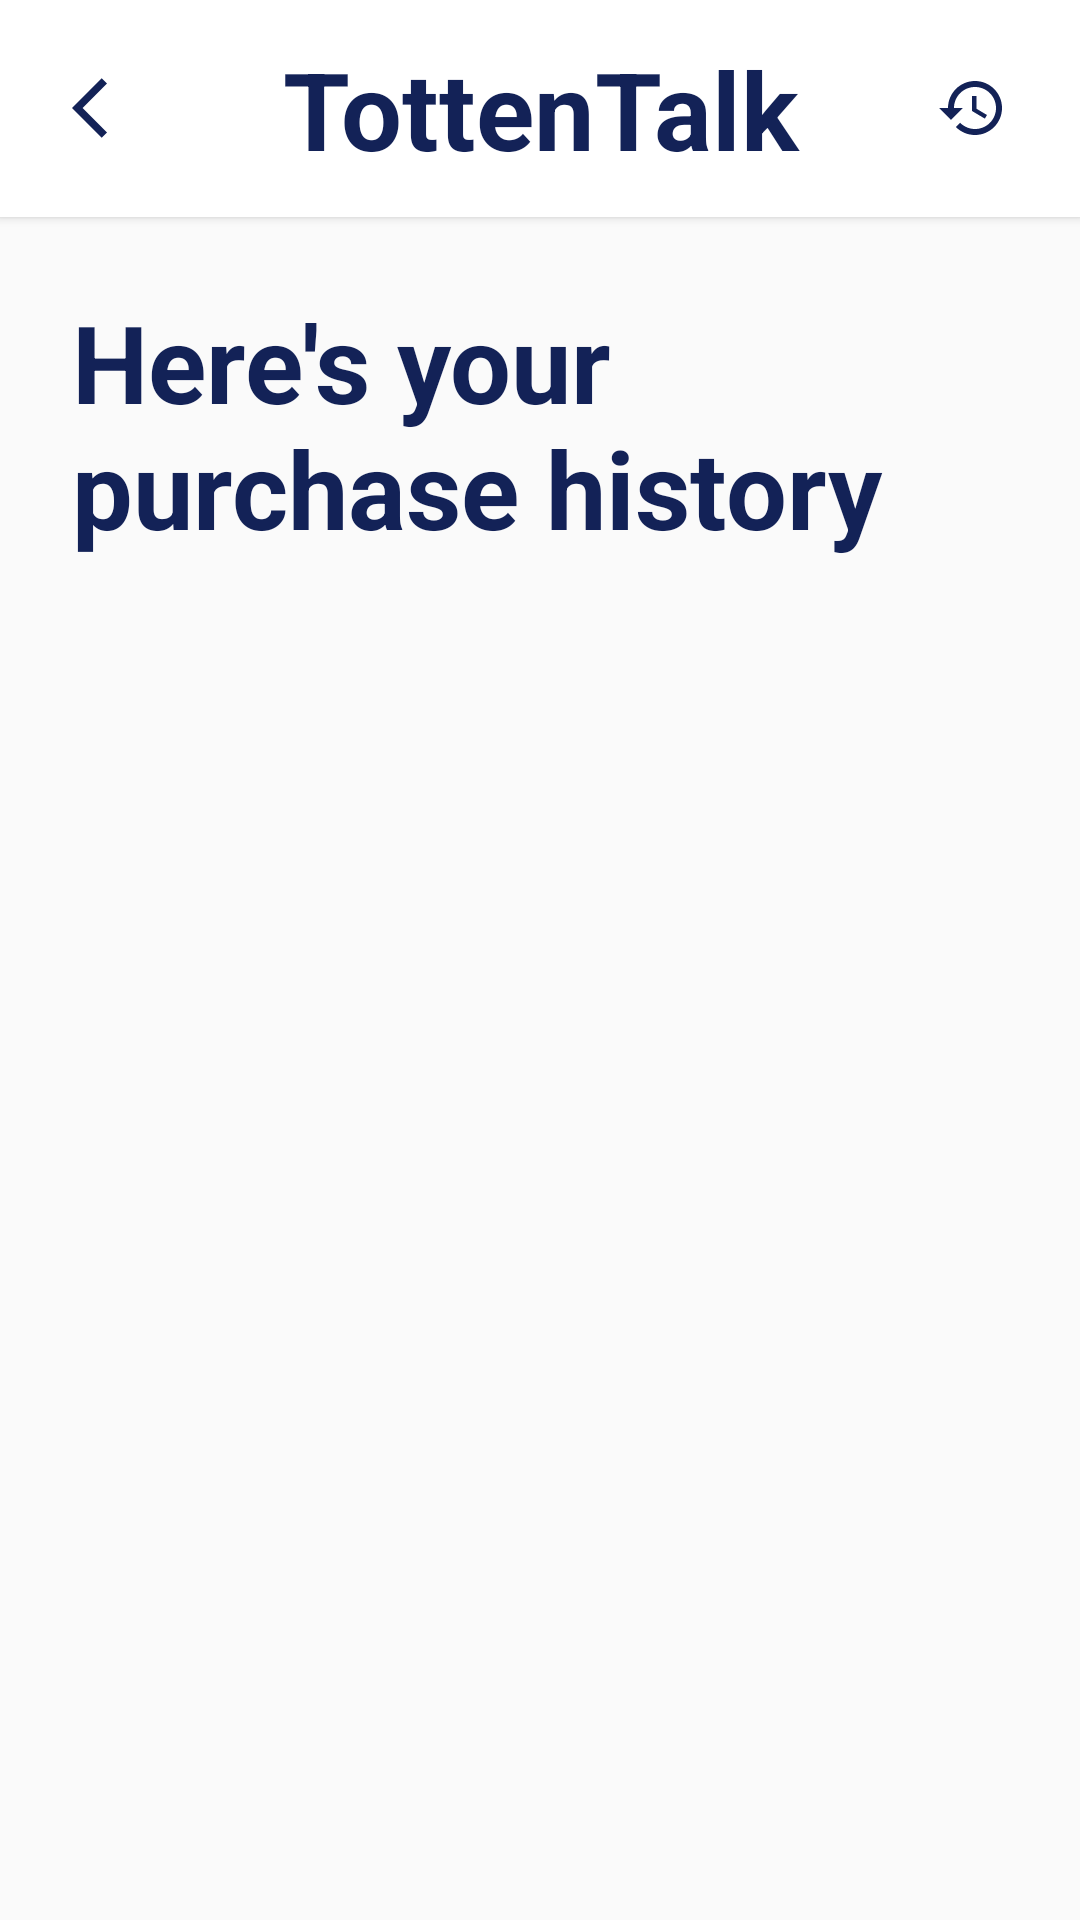

Where to tap for icons on this 1080×1920 app screen, as [x,y]:
Back Button: [89,108]
